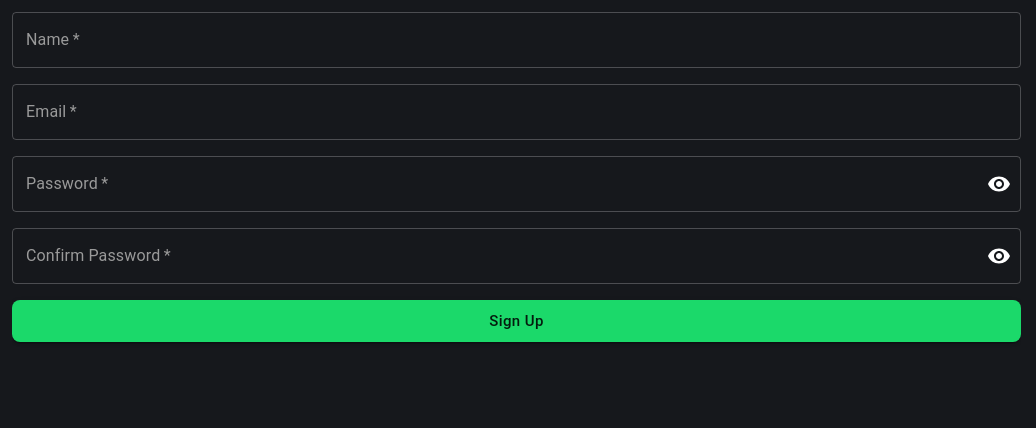
Scenario: SignUpForm › should show validation error for empty email
The image size is (1036, 428).
In the field labelled "Name *": (516, 40) [12,12,1021,68], type "Test User"
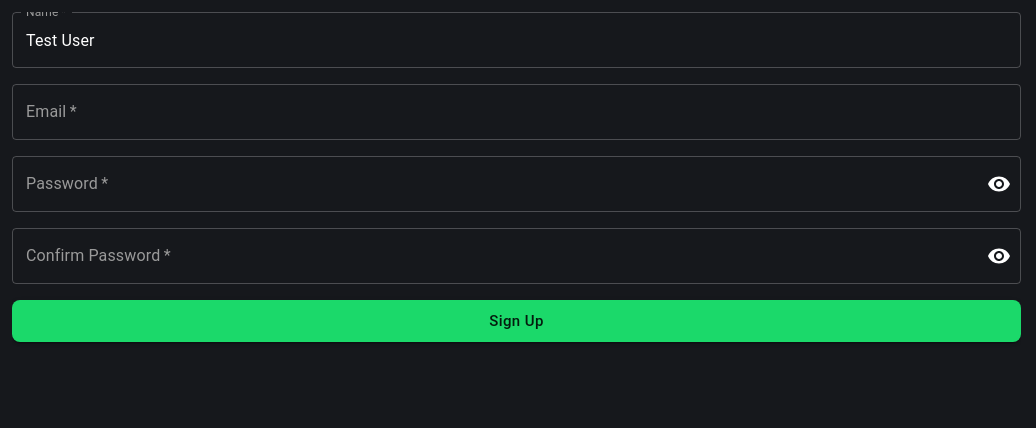
Submit the form "Name * Email * Password * Confirm Password * Sign Up"
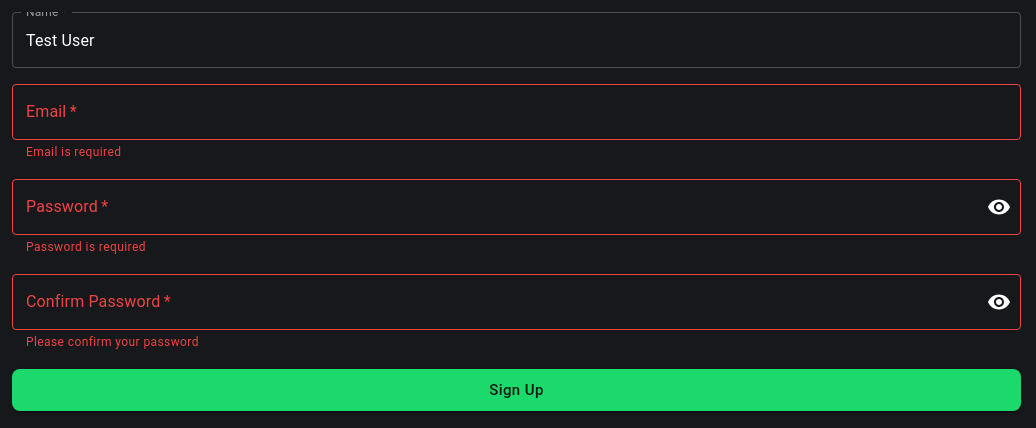
Check: the text "Email is required" is shown, box [26,145,121,159]
